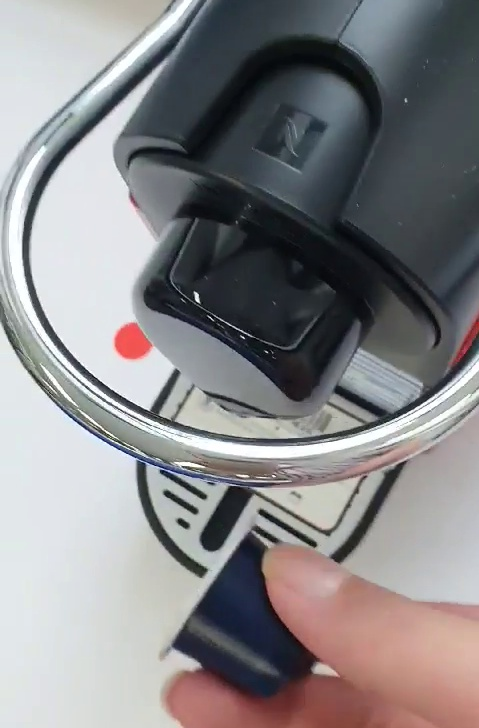capsule_1: (157, 525, 330, 698)
